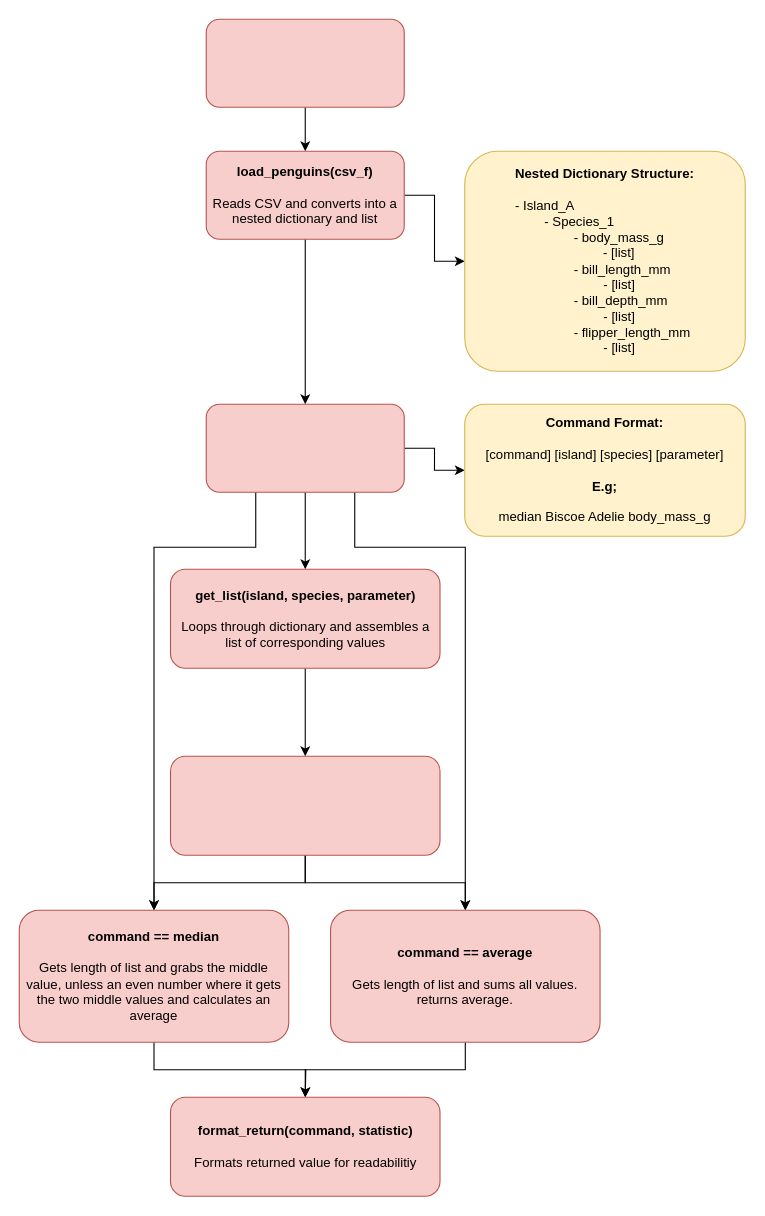
This 765x1216 diagram has some shape labels left out. The shapes that lost their labels are listed below. From the top down, each one's centre as x and y in pixels, then its label:
At (x=304, y=62): "main() Runs program and calls main sequence".
At (x=304, y=447): "command() Prompts input for type of calculation to perform.".
At (x=304, y=805): "calc(list, command) Performs insturcted math operation on the list".
